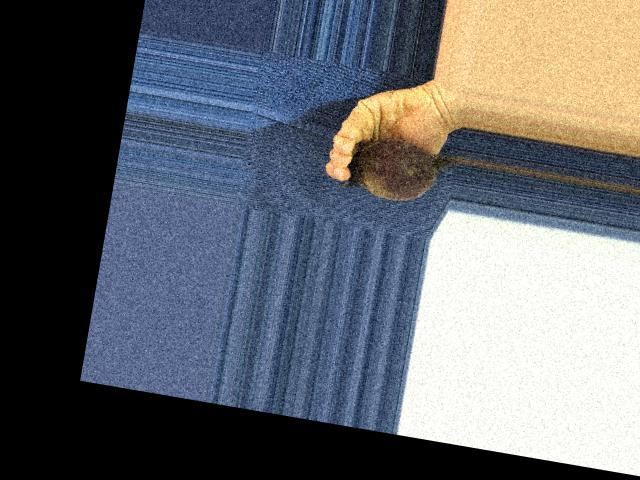beet: (337, 130, 458, 208)
